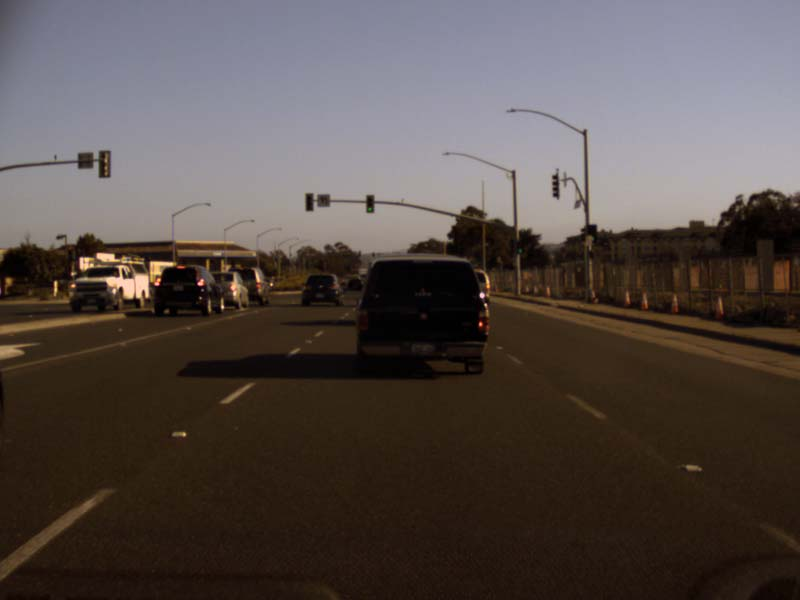Green: (365, 194, 375, 212), (516, 241, 522, 253)
Red: (304, 193, 314, 211)
